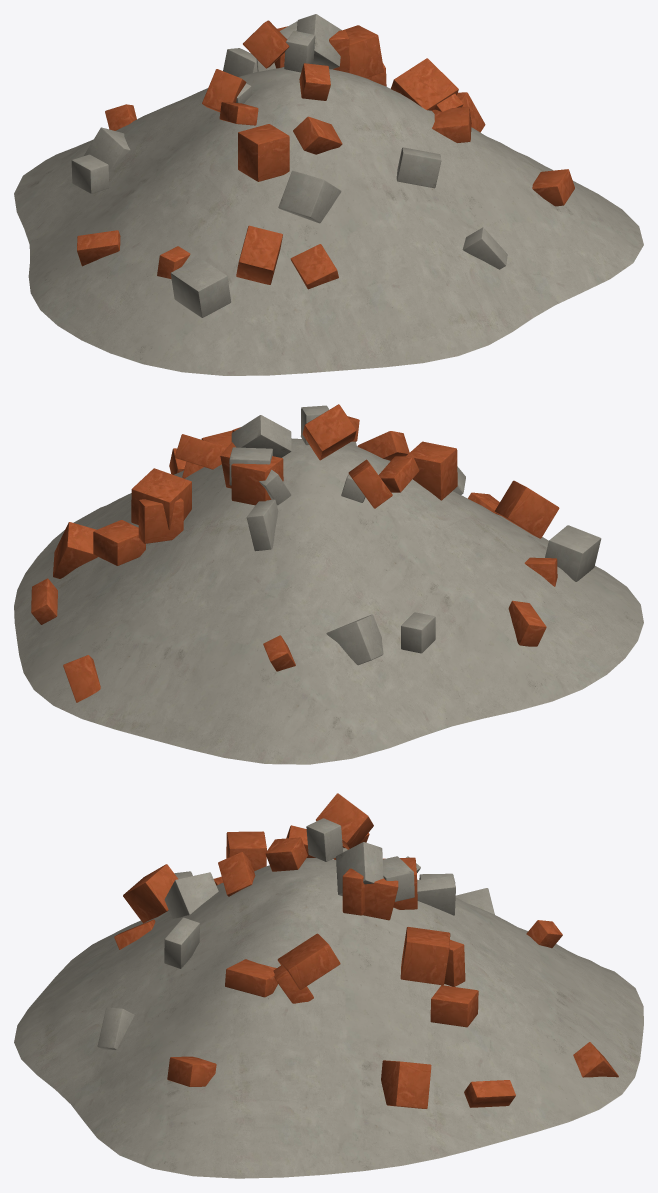
File: SER-DEM-001.glb
3 renders of one model, top to bottom at view 1: azimuth 30°, elevation 25°; view 2: azimuth 150°, elevation 25°; view 3: azimuth 270°, elevation 25°, orthographic. The views are drawn at different scales.
Visible parts, largest first — view 1: SER-DEM-001_monte, SER-DEM-001_caco9, SER-DEM-001_caco2, SER-DEM-001_caco17, SER-DEM-001_caco1, SER-DEM-001_caco30, SER-DEM-001_caco31, SER-DEM-001_caco23, SER-DEM-001_caco32, SER-DEM-001_caco3, SER-DEM-001_caco15, SER-DEM-001_caco34 (+14 smaller); view 2: SER-DEM-001_monte, SER-DEM-001_caco30, SER-DEM-001_caco9, SER-DEM-001_caco31, SER-DEM-001_caco2, SER-DEM-001_caco15, SER-DEM-001_caco24, SER-DEM-001_caco14, SER-DEM-001_caco7, SER-DEM-001_caco25, SER-DEM-001_caco32, SER-DEM-001_caco22 (+13 smaller); view 3: SER-DEM-001_monte, SER-DEM-001_caco31, SER-DEM-001_caco25, SER-DEM-001_caco1, SER-DEM-001_caco30, SER-DEM-001_caco24, SER-DEM-001_caco17, SER-DEM-001_caco15, SER-DEM-001_caco32, SER-DEM-001_caco6, SER-DEM-001_caco23, SER-DEM-001_caco35 (+15 smaller).
Part boxes in pixels (x1=…): SER-DEM-001_monte: x1=14, y1=67, x2=643, y2=375; SER-DEM-001_caco9: x1=238, y1=124, x2=289, y2=181; SER-DEM-001_caco2: x1=170, y1=257, x2=231, y2=317; SER-DEM-001_caco17: x1=278, y1=171, x2=341, y2=223; SER-DEM-001_caco1: x1=390, y1=58, x2=458, y2=110; SER-DEM-001_caco30: x1=236, y1=225, x2=282, y2=284; SER-DEM-001_caco31: x1=343, y1=25, x2=383, y2=77; SER-DEM-001_caco23: x1=396, y1=147, x2=441, y2=188; SER-DEM-001_caco32: x1=296, y1=14, x2=341, y2=69; SER-DEM-001_caco3: x1=290, y1=244, x2=338, y2=289; SER-DEM-001_caco15: x1=243, y1=20, x2=289, y2=68; SER-DEM-001_caco34: x1=293, y1=116, x2=342, y2=154; SER-DEM-001_monte: x1=14, y1=438, x2=643, y2=764; SER-DEM-001_caco30: x1=495, y1=480, x2=559, y2=538; SER-DEM-001_caco9: x1=406, y1=441, x2=457, y2=500; SER-DEM-001_caco31: x1=131, y1=468, x2=191, y2=529; SER-DEM-001_caco2: x1=545, y1=525, x2=601, y2=581; SER-DEM-001_caco15: x1=302, y1=404, x2=356, y2=460; SER-DEM-001_caco24: x1=93, y1=520, x2=145, y2=565; SER-DEM-001_caco14: x1=326, y1=614, x2=383, y2=665; SER-DEM-001_caco7: x1=231, y1=456, x2=283, y2=505; SER-DEM-001_caco25: x1=53, y1=522, x2=97, y2=578; SER-DEM-001_caco32: x1=231, y1=415, x2=291, y2=457; SER-DEM-001_caco22: x1=138, y1=498, x2=183, y2=543; SER-DEM-001_monte: x1=14, y1=858, x2=643, y2=1178; SER-DEM-001_caco31: x1=400, y1=927, x2=450, y2=985; SER-DEM-001_caco25: x1=381, y1=1060, x2=431, y2=1108; SER-DEM-001_caco1: x1=277, y1=933, x2=340, y2=989; SER-DEM-001_caco30: x1=123, y1=864, x2=178, y2=923; SER-DEM-001_caco24: x1=430, y1=985, x2=478, y2=1027; SER-DEM-001_caco17: x1=164, y1=872, x2=218, y2=918; SER-DEM-001_caco15: x1=316, y1=793, x2=373, y2=849; SER-DEM-001_caco32: x1=336, y1=842, x2=383, y2=895; SER-DEM-001_caco6: x1=225, y1=959, x2=277, y2=997; SER-DEM-001_caco23: x1=164, y1=917, x2=199, y2=968; SER-DEM-001_caco35: x1=306, y1=818, x2=343, y2=861.
Size of the model in its own units: 1.65 by 0.6948 by 1.62.
2 materials, 2 textured.
